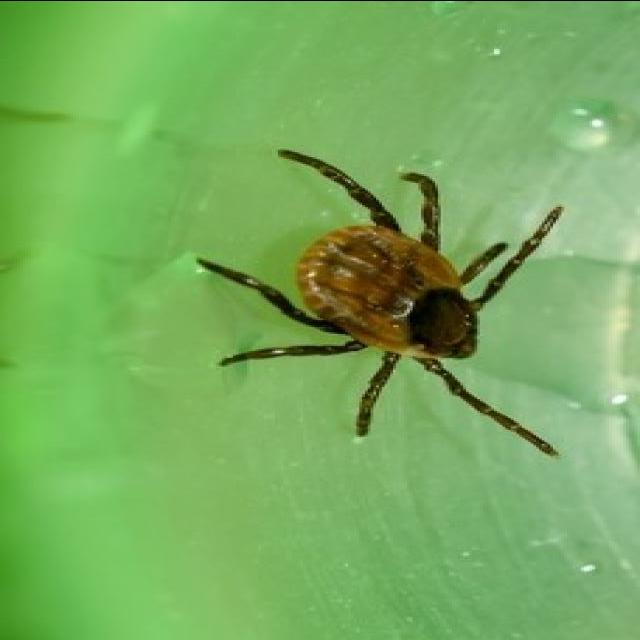Rhipicephalus Sanguineus-F: (205, 149, 561, 455)
